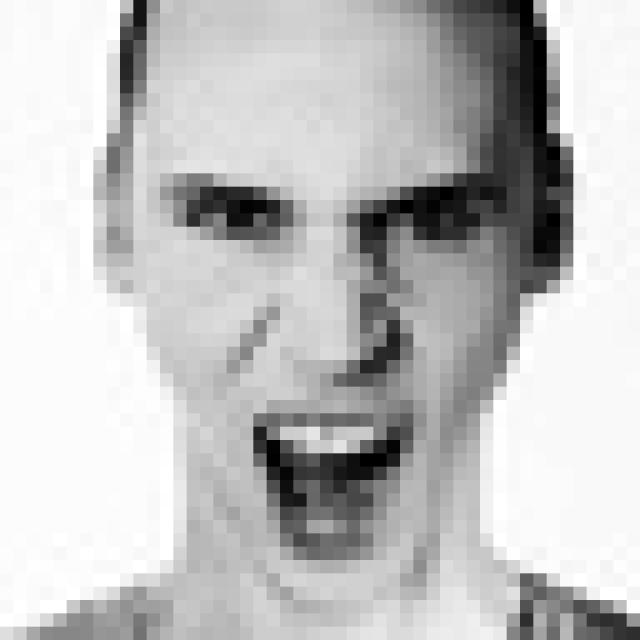angry: (148, 161, 518, 561)
